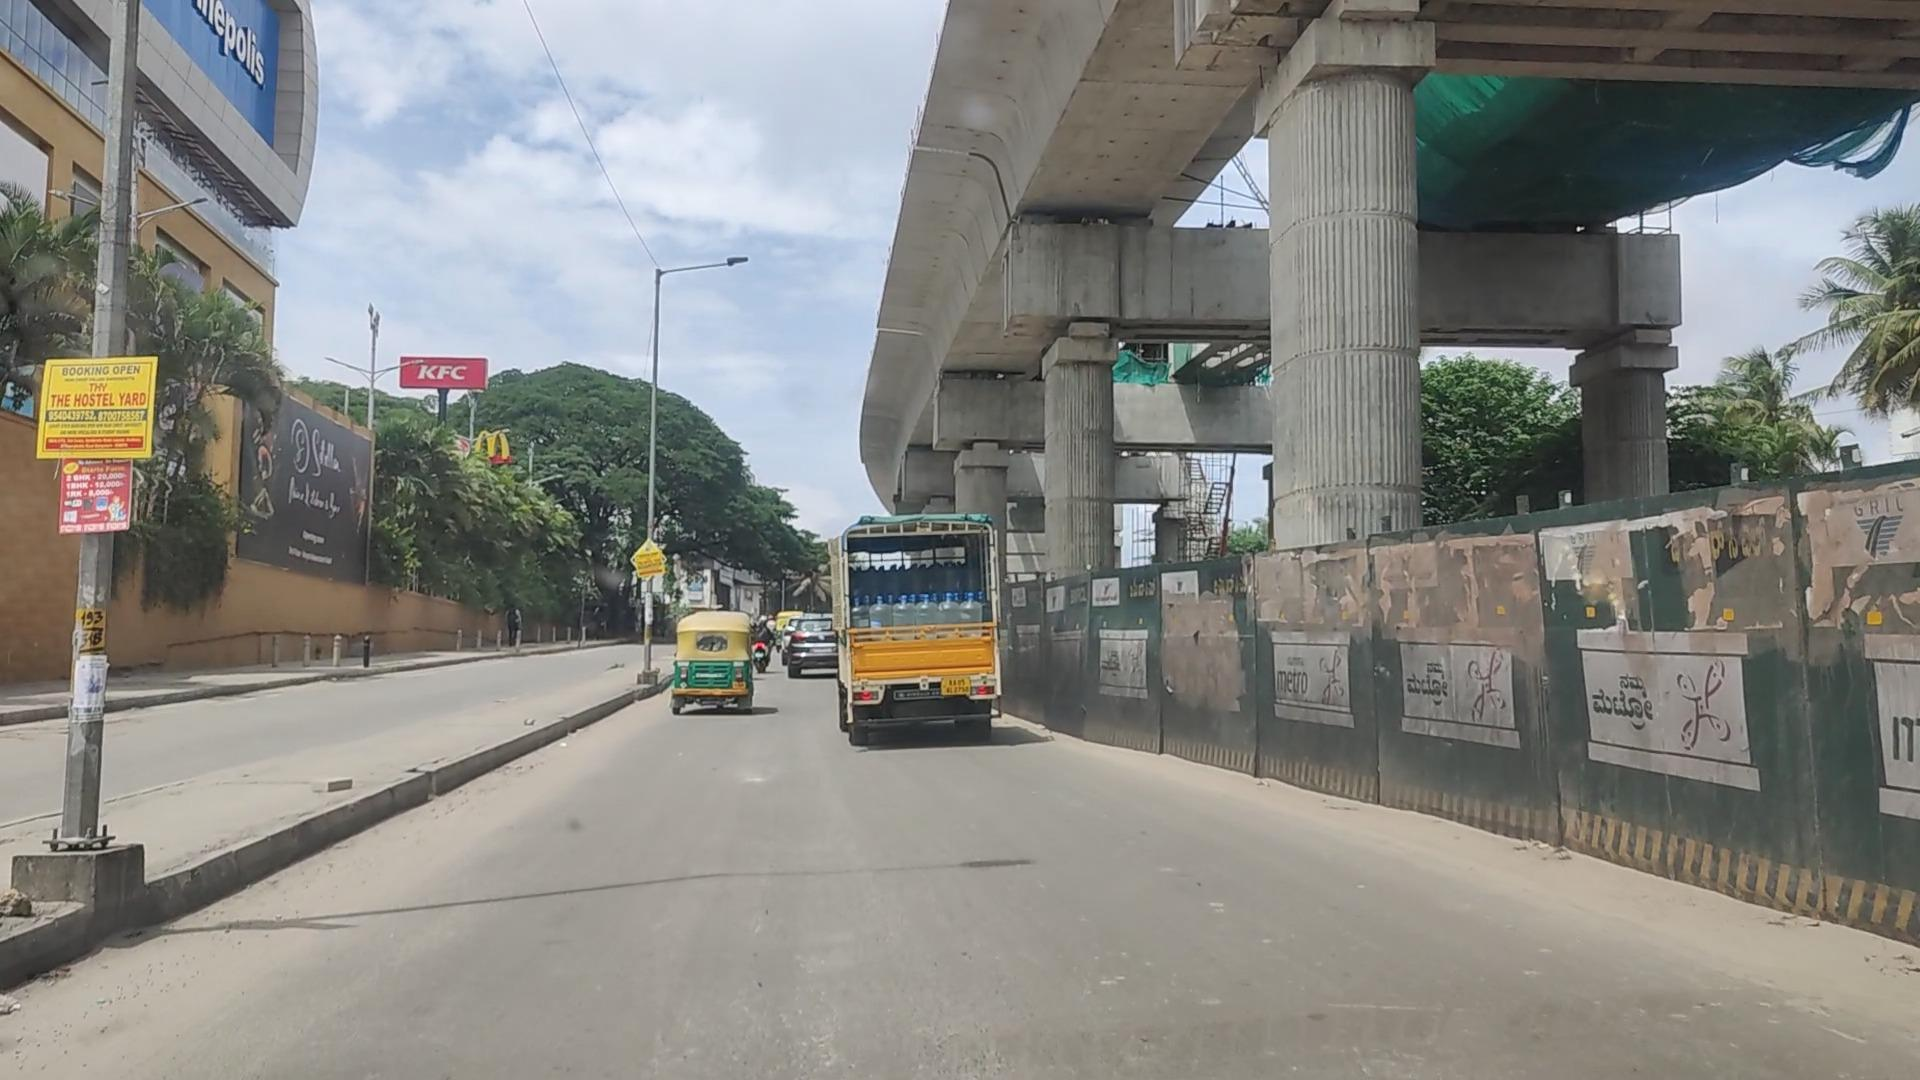HMV: (836, 509, 1022, 749)
LMV: (665, 611, 762, 721)
